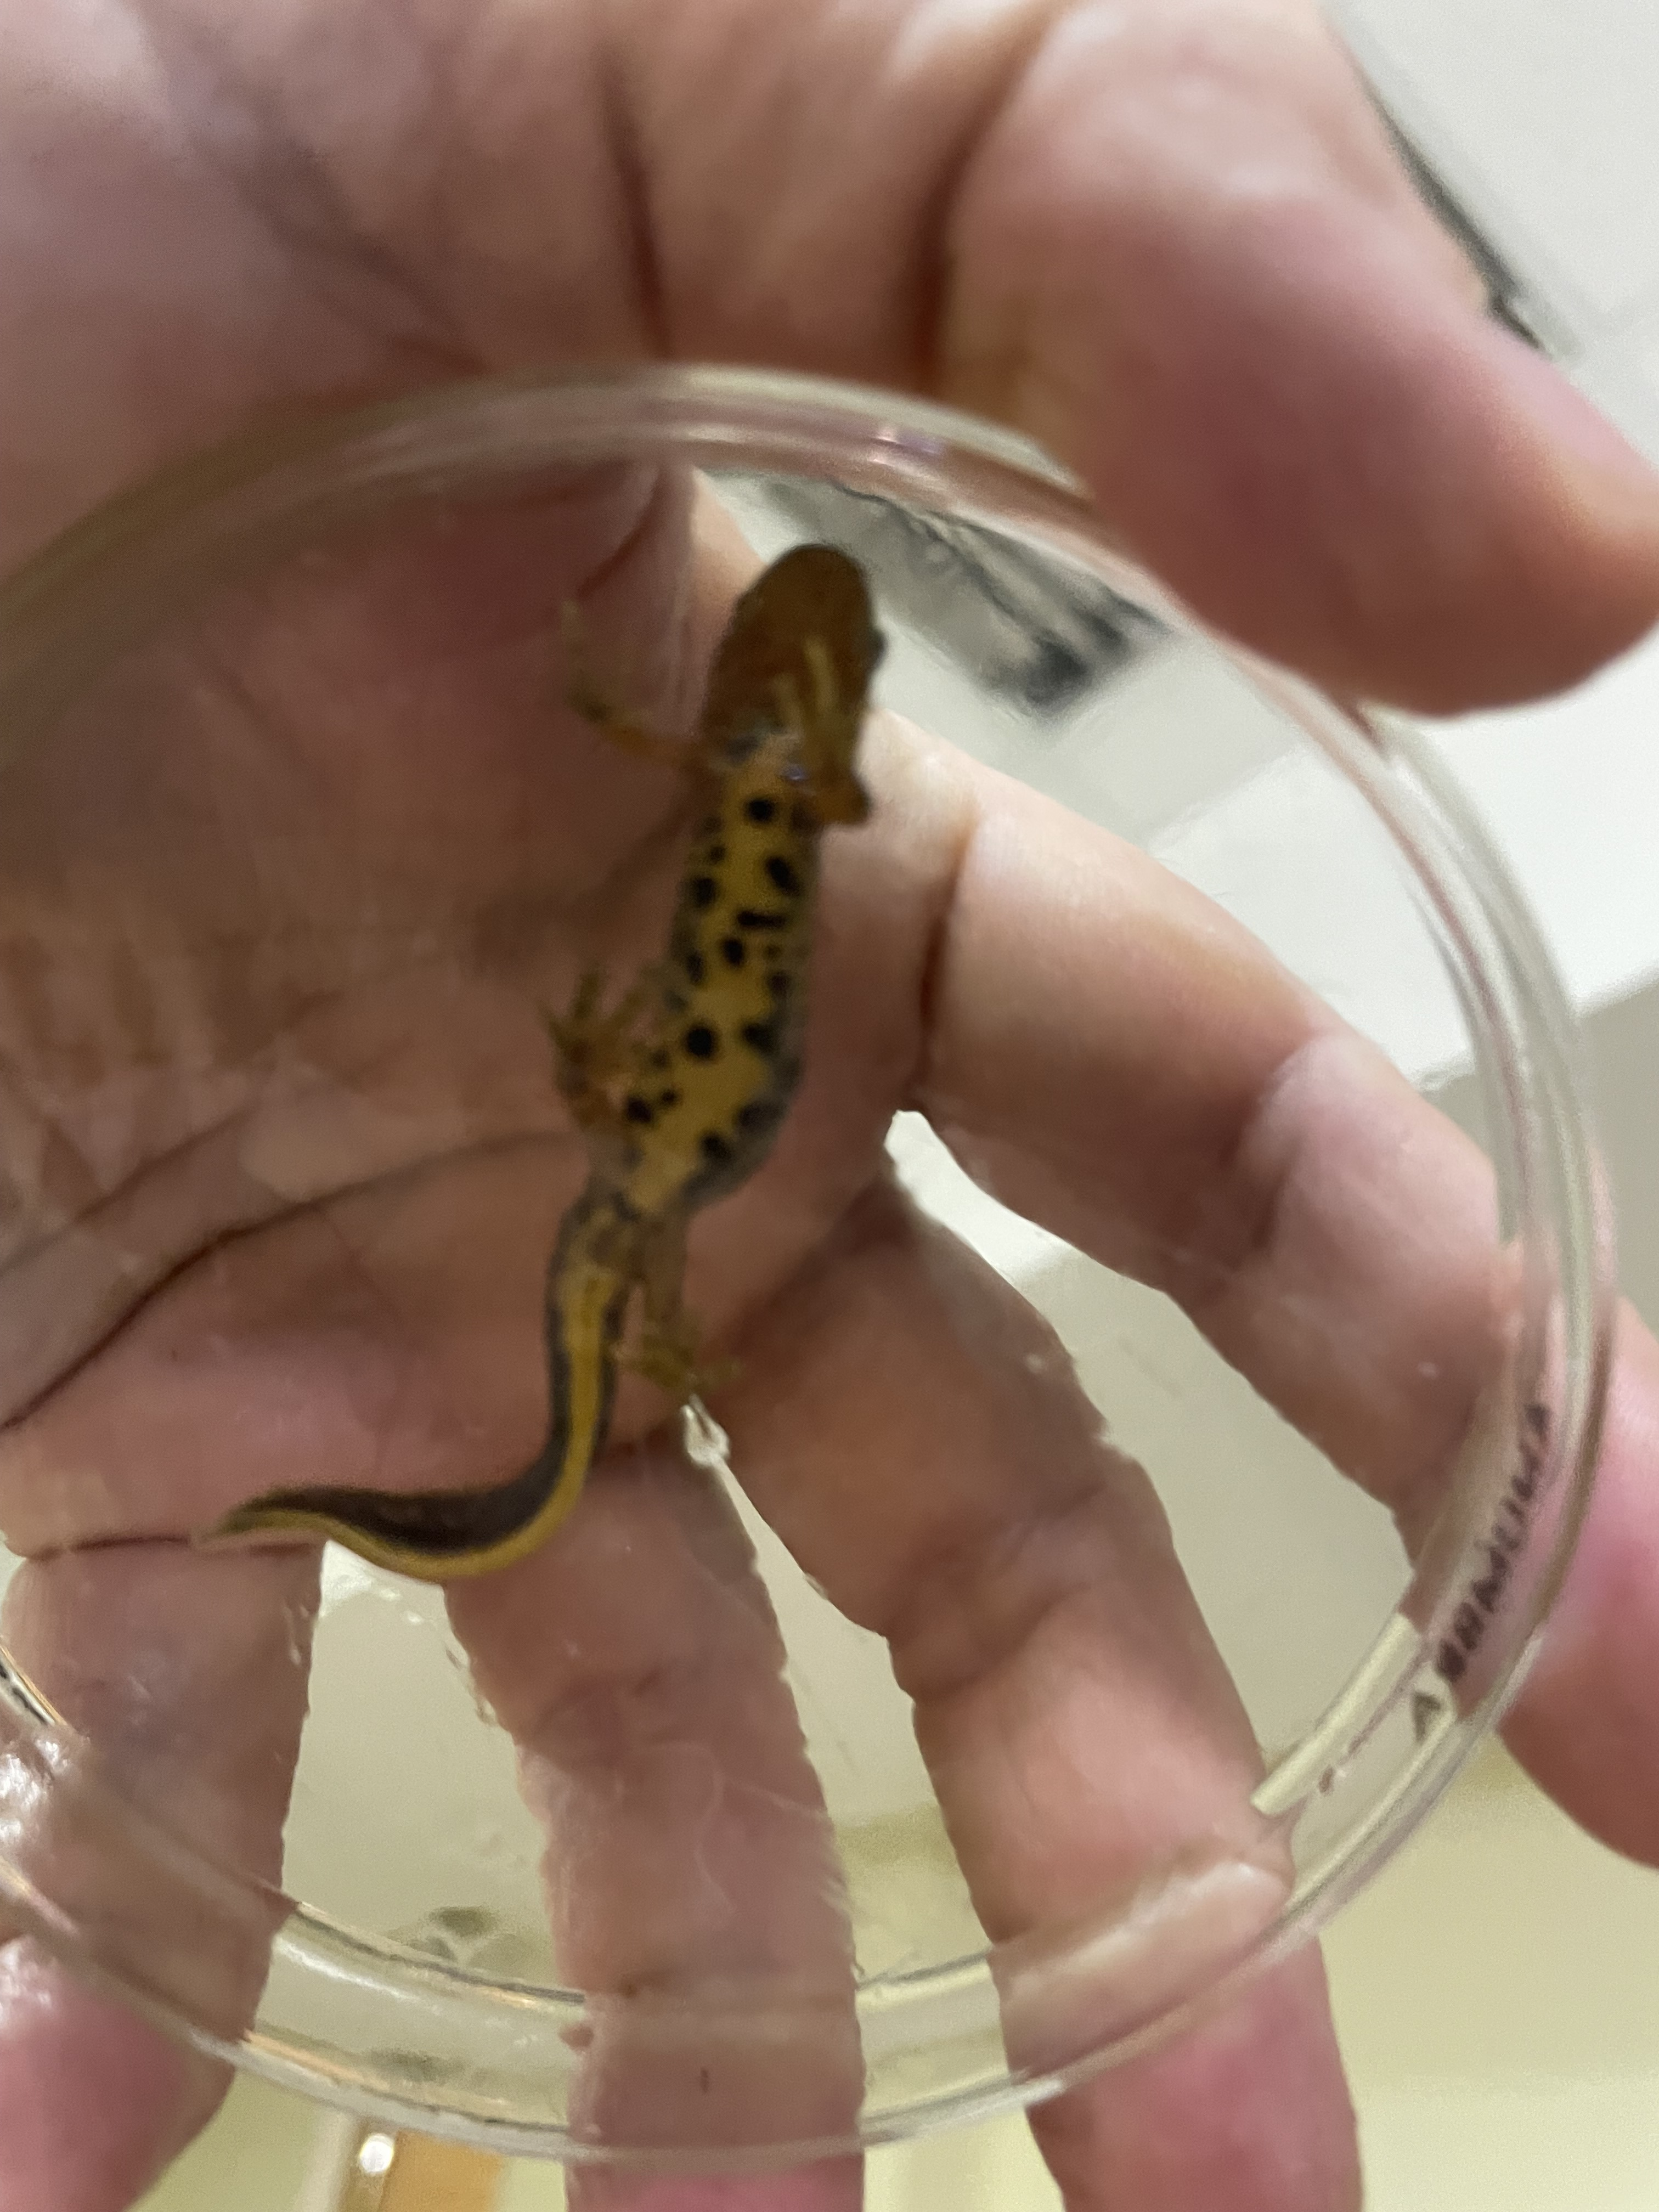Karelin_newt: (620, 779, 828, 1217)
